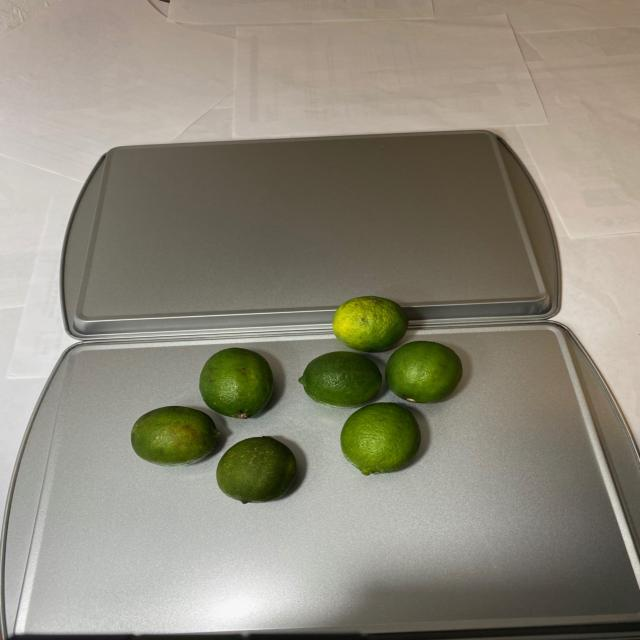lemon: (127, 295, 460, 501)
